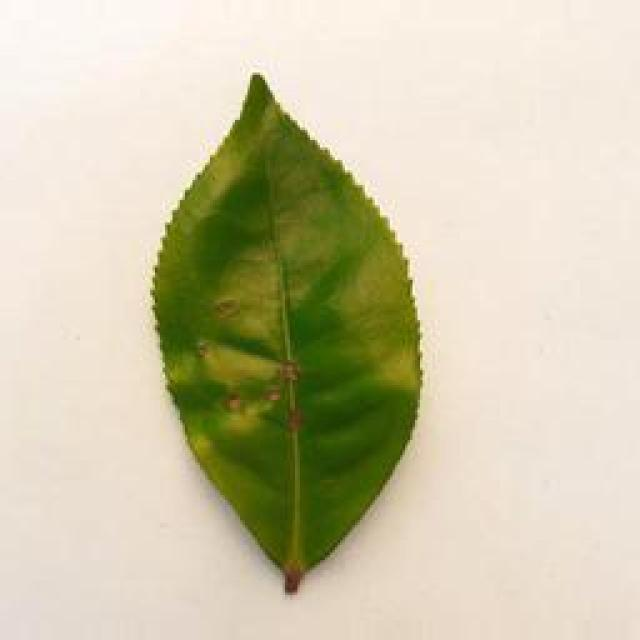Helopeltis: (149, 64, 434, 606)
